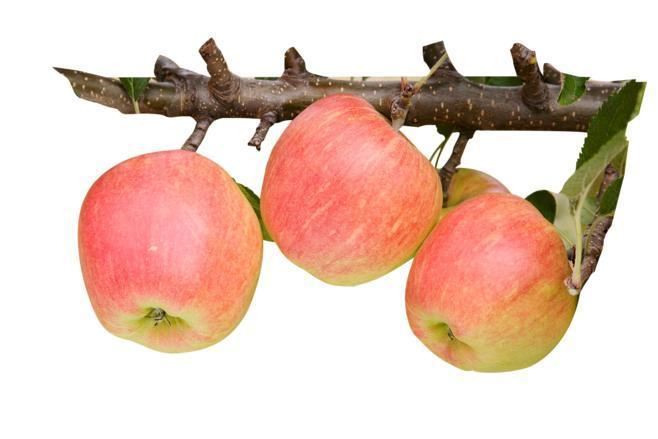apple: (76, 151, 264, 352), (258, 95, 446, 287), (403, 194, 578, 372)
